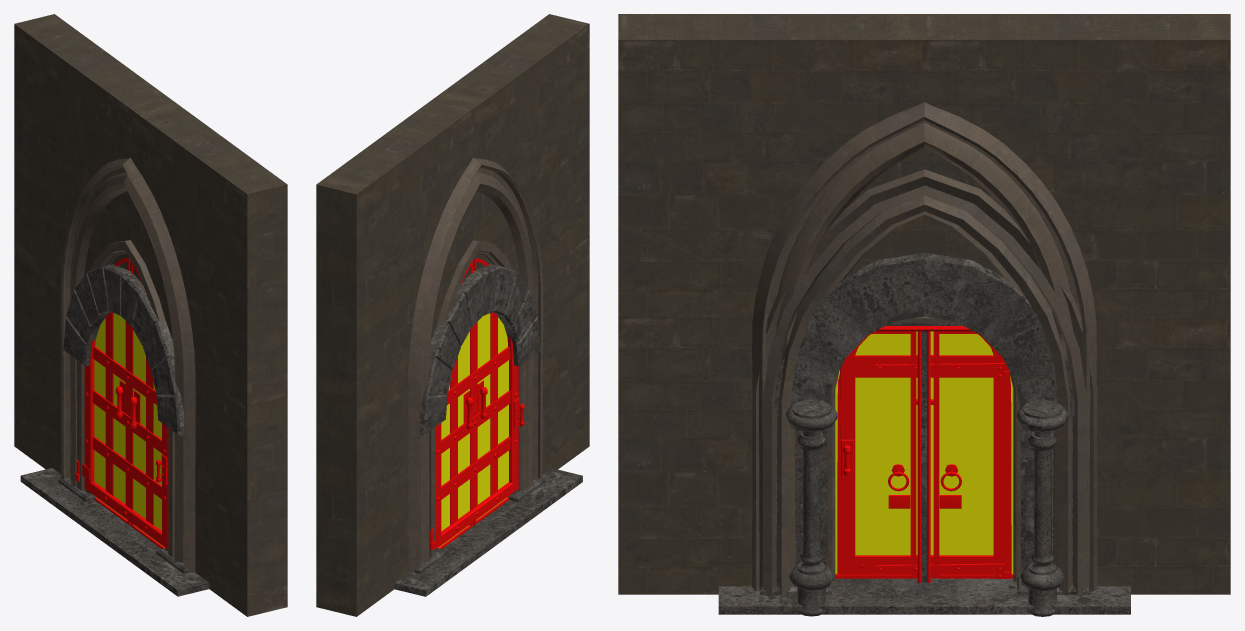
The model's file is Doors.fbx.
3 views of the same model, side by side, from view 1: azimuth 30°, elevation 25°; view 2: azimuth 150°, elevation 25°; view 3: azimuth 270°, elevation 25° (orthographic). The views are drawn at different scales.
Parts seen in each view (by area): view 1: Door5Frame, Door3Frame, Door4Frame, Door, Door1Frame, Door2Frame, DoorLeft, DoorRight; view 2: Door3Frame, Door5Frame, Door4Frame, Door2Frame, Door, Door1Frame, DoorRight, DoorLeft; view 3: Door1Frame, Door4Frame, Door3Frame, Door2Frame, Door (×2), DoorRight, DoorLeft, Door5Frame.
Boxes of the visible parts, x1,y1,x2,y2 form: Door5Frame: (14, 24, 287, 614); Door3Frame: (14, 24, 287, 616); Door4Frame: (60, 157, 287, 616); Door: (76, 312, 168, 549); Door1Frame: (15, 14, 285, 557); Door2Frame: (17, 14, 287, 194); DoorLeft: (94, 258, 130, 524); DoorRight: (130, 260, 165, 548); Door3Frame: (356, 24, 589, 616); Door5Frame: (324, 14, 589, 596); Door4Frame: (316, 29, 589, 616); Door2Frame: (316, 14, 588, 615); Door: (429, 312, 524, 549); Door1Frame: (316, 14, 588, 615); DoorRight: (473, 258, 509, 525); DoorLeft: (438, 260, 473, 548); Door1Frame: (619, 14, 1230, 616); Door4Frame: (618, 40, 1230, 590); Door3Frame: (618, 42, 1088, 594); Door2Frame: (618, 14, 1230, 380); Door (×2): (837, 331, 1011, 578); DoorRight: (835, 331, 916, 578); DoorLeft: (933, 331, 1013, 578); Door5Frame: (618, 14, 1165, 614).
Size of the model in its own units: 112 by 402 by 400.
